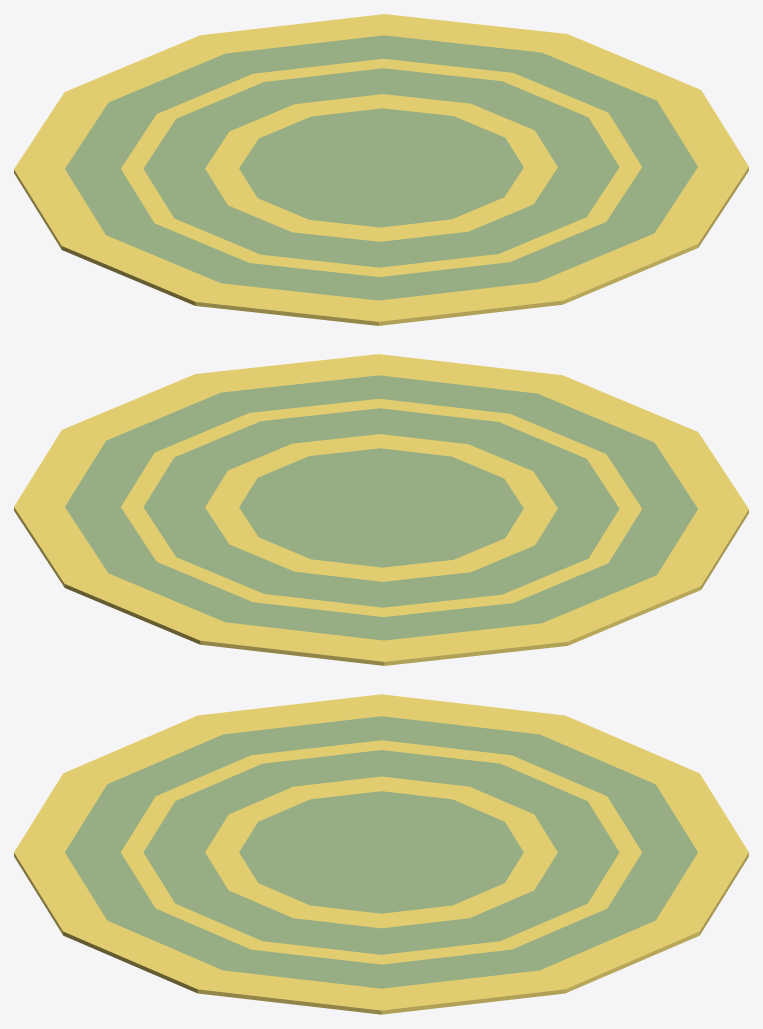
Rendered from Carpet_6.fbx.
3 views of the same model, one above another, from view 1: azimuth 30°, elevation 25°; view 2: azimuth 150°, elevation 25°; view 3: azimuth 270°, elevation 25° (orthographic).
Parts seen in each view (by area): view 1: Carpet_6; view 2: Carpet_6; view 3: Carpet_6.
Boxes of the visible parts, <box> form: Carpet_6: <box>14,14,748,325</box>; Carpet_6: <box>14,354,748,665</box>; Carpet_6: <box>14,694,748,1014</box>.
Size of the model in its own units: 187 by 183 by 1.14.
